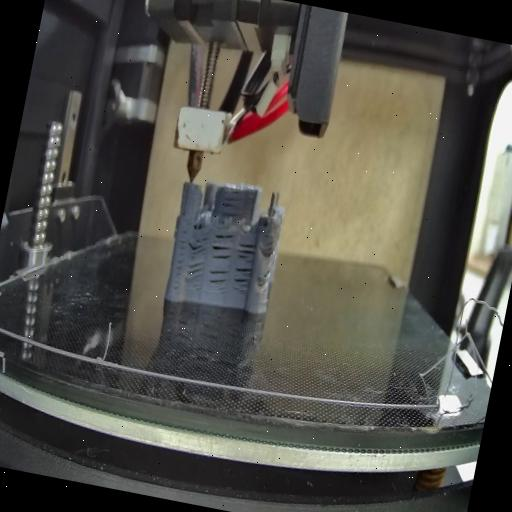cracks: (169, 230, 191, 294), (204, 267, 232, 297), (210, 232, 236, 262), (220, 190, 246, 220), (184, 259, 206, 287), (230, 264, 252, 292), (236, 241, 258, 260), (188, 235, 208, 254), (262, 238, 276, 260), (262, 270, 272, 283), (180, 208, 188, 218)
